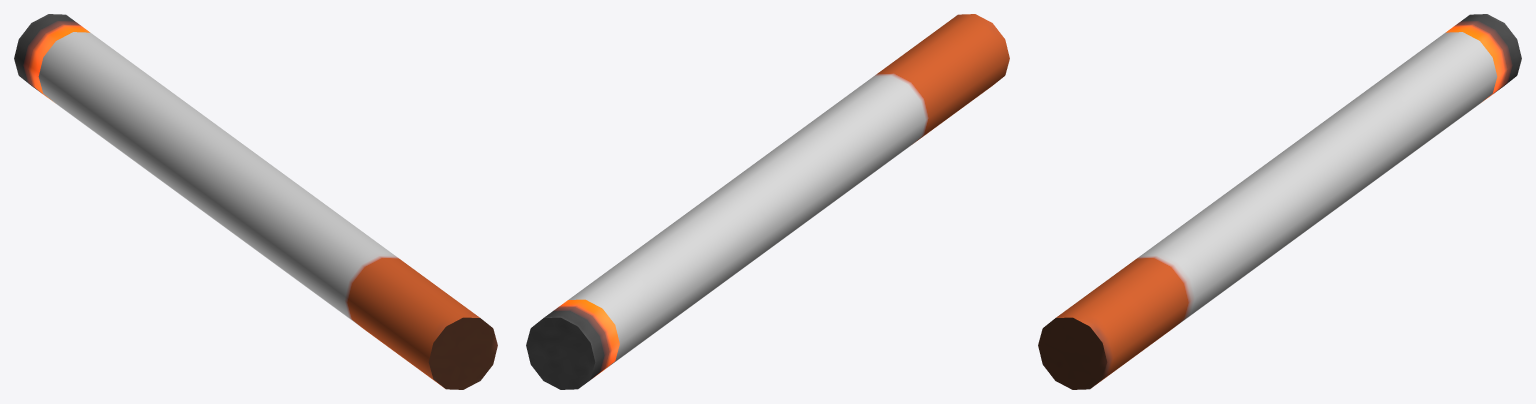
The model's file is Cigarette_1.fbx.
3 renders of one model, left to right at view 1: azimuth 30°, elevation 25°; view 2: azimuth 150°, elevation 25°; view 3: azimuth 330°, elevation 25°, orthographic.
Parts seen in each view (by area): view 1: Cigarette_1; view 2: Cigarette_1; view 3: Cigarette_1.
Part boxes in pixels (x1,y1,x2,y2): Cigarette_1: [14, 14, 497, 389]; Cigarette_1: [526, 14, 1009, 389]; Cigarette_1: [1038, 14, 1521, 389].
Bounding box in the file's own units: 0.0081 × 0.0081 × 0.084.
